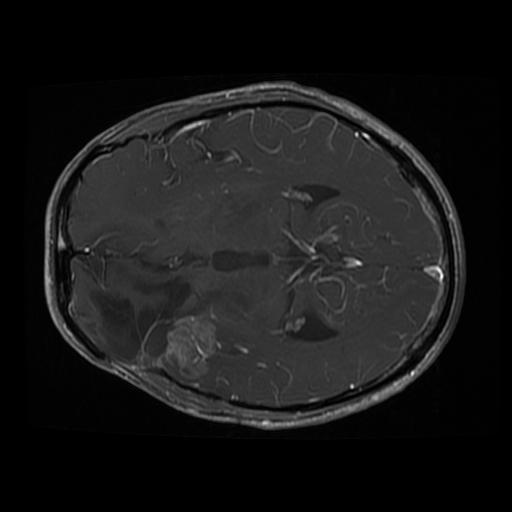glioma: (84, 276, 224, 386)
